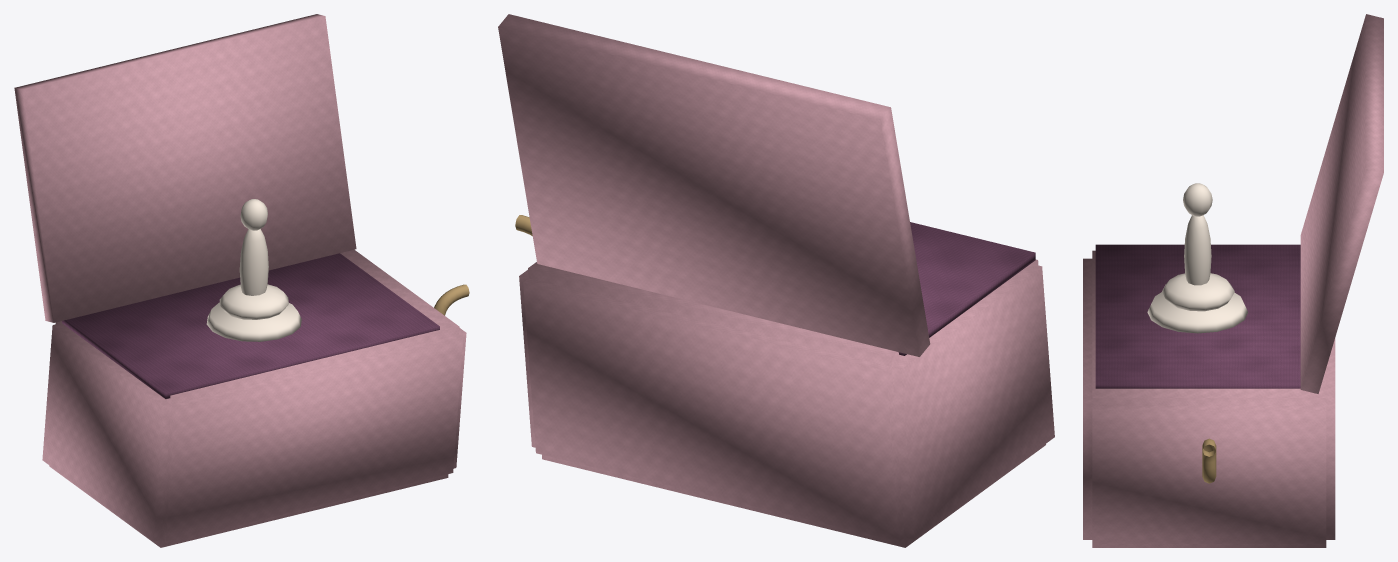
File: BoiteAMusique.glb
3 renders of one model, left to right at view 1: azimuth 30°, elevation 25°; view 2: azimuth 150°, elevation 25°; view 3: azimuth 270°, elevation 25°, orthographic. The views are drawn at different scales.
Parts seen in each view (by area): view 1: Couvercle, Coffret, Velours, Danseuse; view 2: Coffret, Couvercle, Velours; view 3: Coffret, Velours, Couvercle, Danseuse, Manivelle.
Part boxes in pixels (box(x1,y1,x2,y2)): Couvercle: box(14, 14, 356, 322); Coffret: box(42, 249, 466, 547); Velours: box(62, 253, 439, 398); Danseuse: box(206, 199, 301, 341); Coffret: box(519, 259, 1054, 547); Couvercle: box(498, 14, 930, 356); Velours: box(898, 222, 1035, 355); Coffret: box(1083, 250, 1335, 547); Velours: box(1095, 244, 1300, 388); Couvercle: box(1300, 14, 1383, 393); Danseuse: box(1147, 183, 1247, 333); Manivelle: box(1202, 438, 1216, 483).
Size of the model in its own units: 0.195 by 0.1842 by 0.1311.
Materials: 4 (2 with a texture image).
